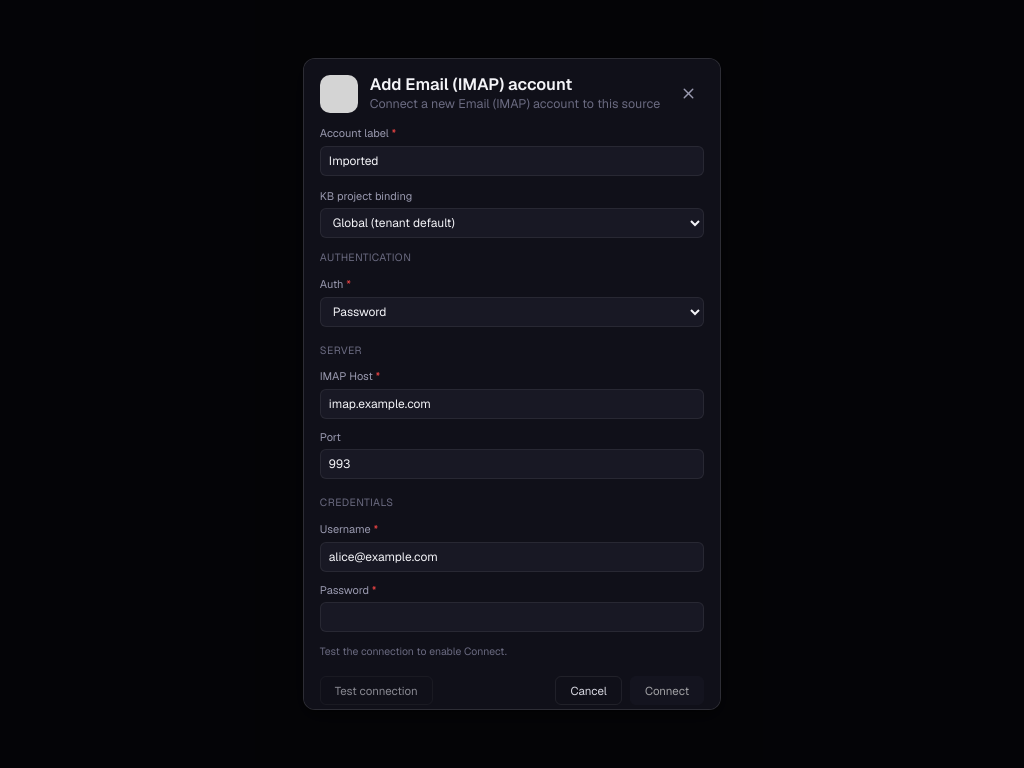
CredentialConnectorForm — import prefill (create mode) › seeds the account label + connection params but never a secret, and still gates Connect on a test
Expected: the field with test id "connector-imap-form-label" holds "Imported", top-left (320, 146), bottom-right (704, 176)
Expected: the field with test id "connector-imap-form-host" holds "imap.example.com", top-left (320, 389), bottom-right (704, 419)
Note: Enter the secret, test, then Connect becomes enabled.
Step 1. Type "s3cret" into the password field with test id "connector-imap-form-password" → (512, 617), box top-left (320, 602), bottom-right (704, 632)
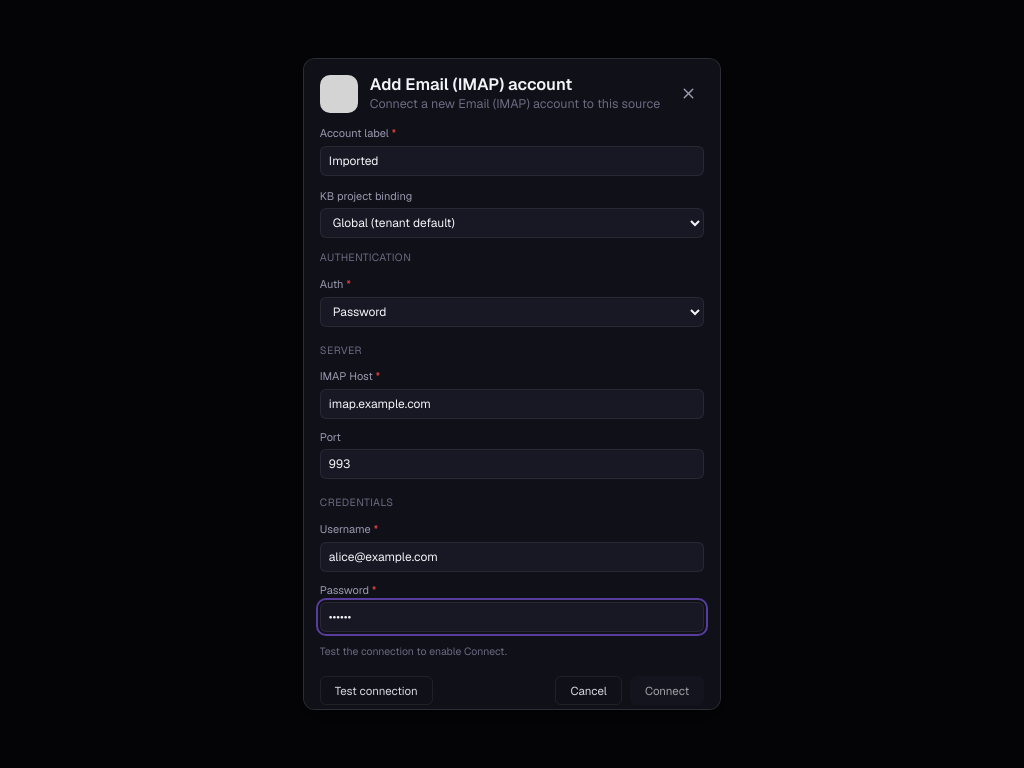
Step 2. Click the button with test id "connector-imap-form-test" → (376, 690), box top-left (320, 676), bottom-right (433, 705)
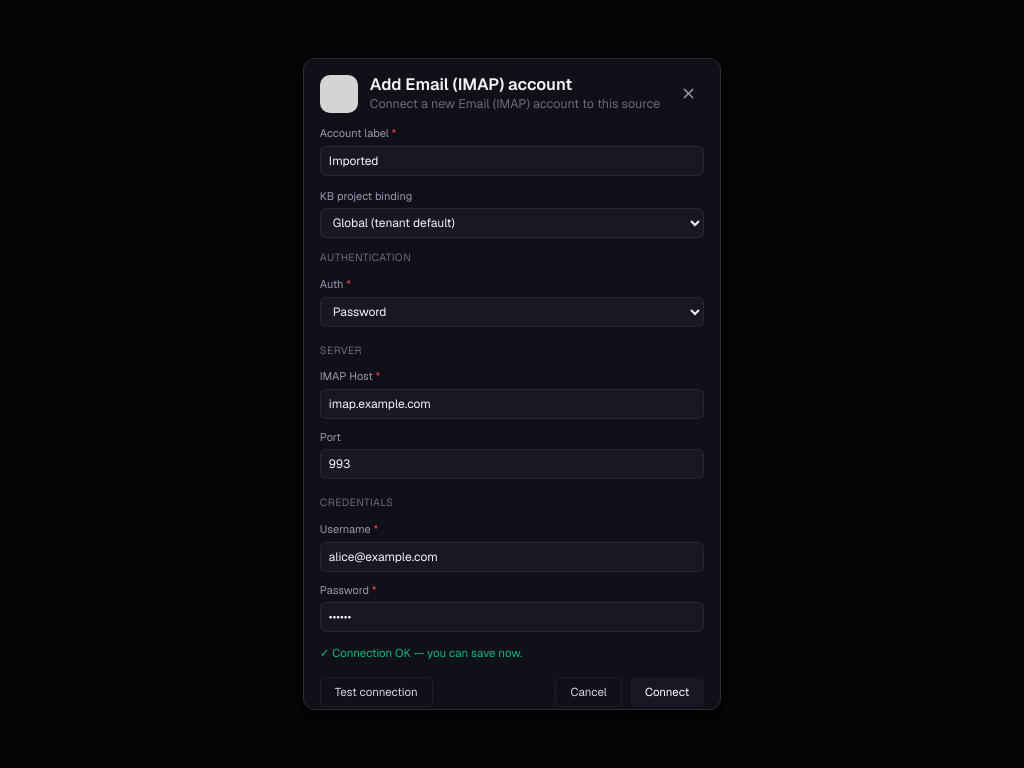
Expected: the button with test id "connector-imap-form-submit" is enabled, top-left (630, 677), bottom-right (704, 707)
